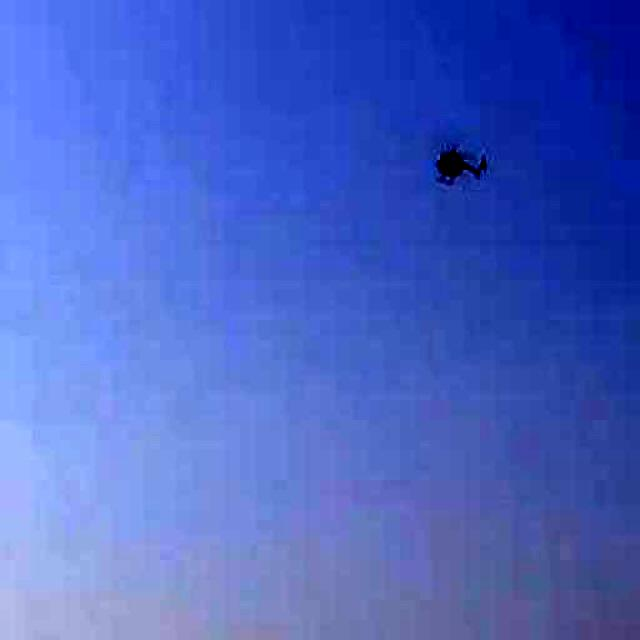drone: (390, 92, 508, 220)
